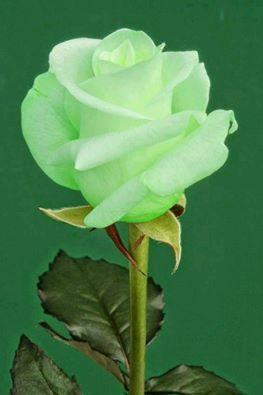Rose: (22, 24, 239, 252)
